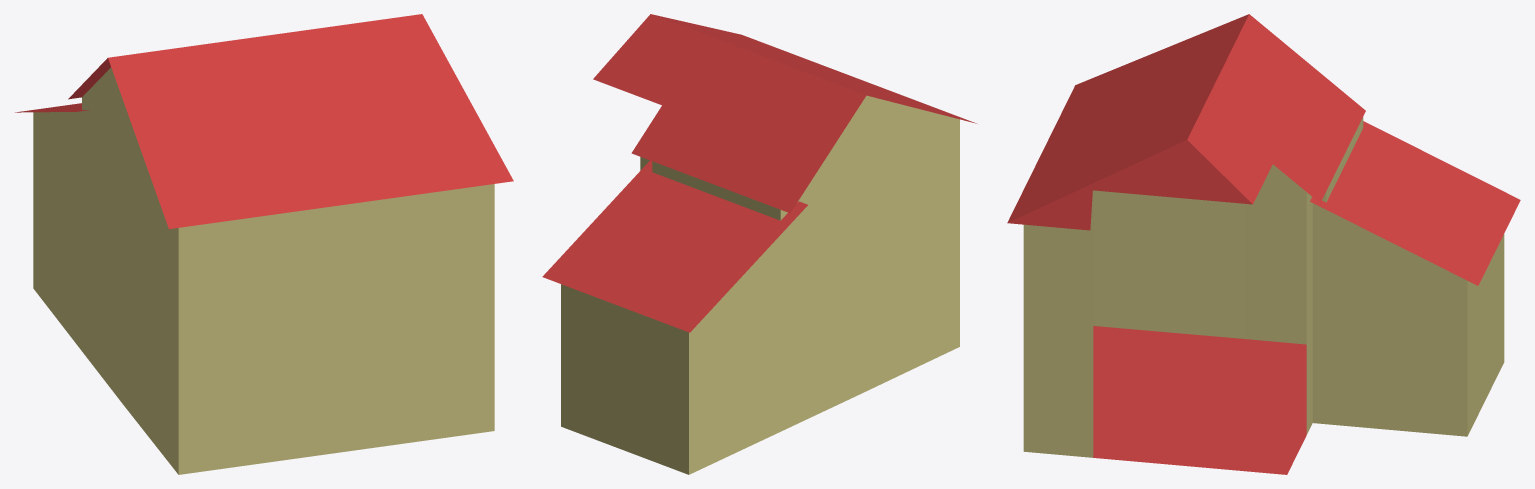
The picture shows the model from 3 angles, left to right: view 1: azimuth 30°, elevation 25°; view 2: azimuth 150°, elevation 25°; view 3: azimuth 270°, elevation 25°; orthographic projection. The views are drawn at different scales.
Visible parts, largest first — view 1: group_5, group_3, group_9; view 2: group_5, group_9, group_3, group_7, group_8; view 3: group_5, group_3, group_9, group_6, group_7, group_4.
Part boxes in pixels (x1,y1,x2,y2): group_5: (82, 67, 494, 474); group_3: (68, 14, 513, 229); group_9: (33, 111, 81, 350); group_5: (640, 95, 959, 431); group_9: (561, 235, 780, 474); group_3: (593, 14, 976, 212); group_7: (542, 160, 807, 332); group_8: (544, 271, 689, 331); group_5: (1023, 117, 1363, 457); group_3: (1007, 14, 1365, 230); group_9: (1326, 210, 1504, 436); group_6: (1093, 326, 1306, 474); group_7: (1310, 121, 1520, 285); group_4: (1010, 184, 1325, 229).
Bounding box in the file's own units: 13.29 × 18.41 × 12.63.
